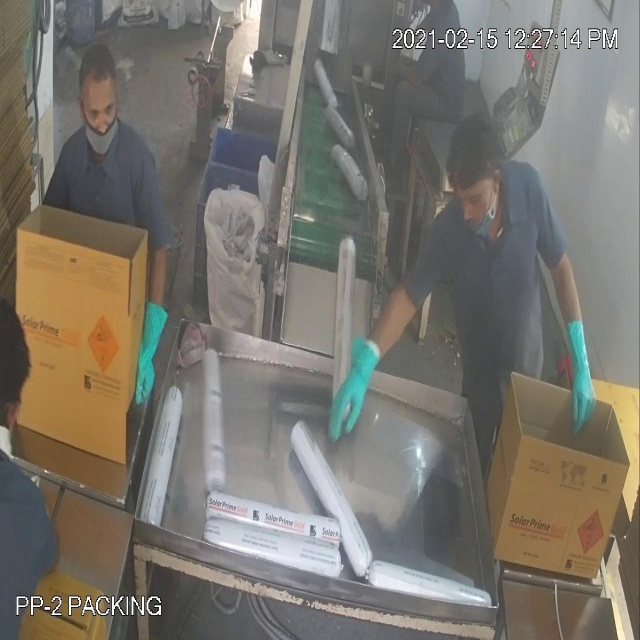Guantes: (315, 338, 390, 453), (552, 298, 603, 444), (136, 301, 168, 415)
Sin_guantes: (384, 58, 442, 94)
